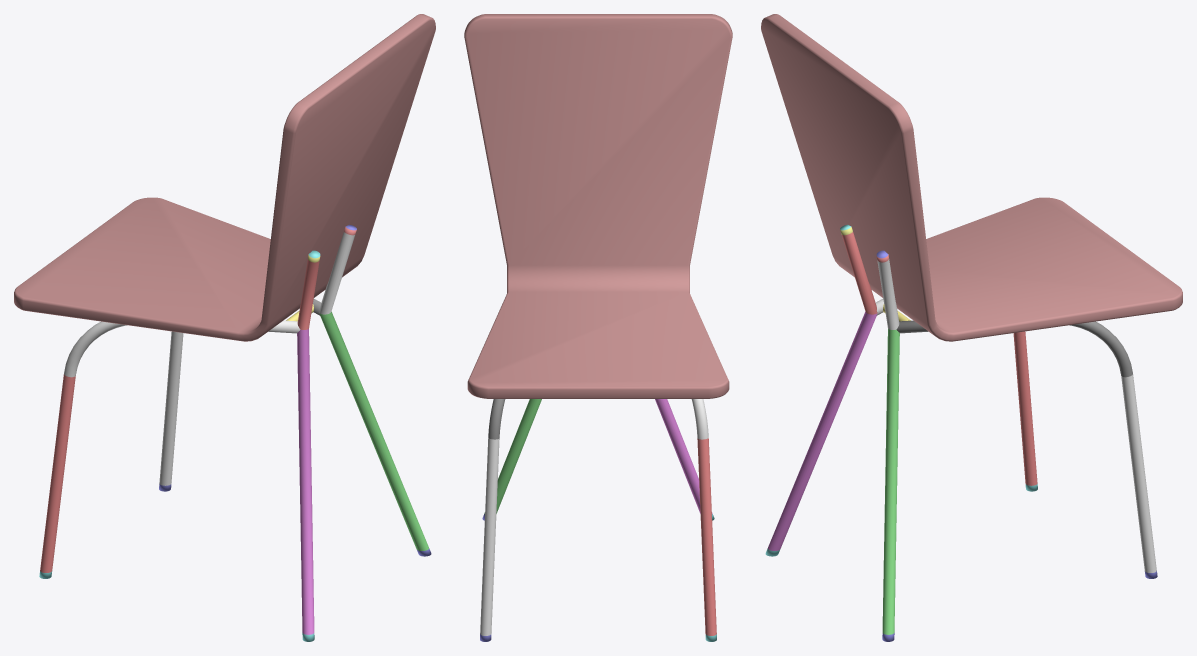
Rendered from chairRes.gltf.
The picture shows the model from 3 angles, left to right: view 1: azimuth 30°, elevation 25°; view 2: azimuth 150°, elevation 25°; view 3: azimuth 270°, elevation 25°; orthographic projection. The views are drawn at different scales.
Parts seen in each view (by area): view 1: chairRes; view 2: chairRes; view 3: chairRes.
Part boxes in pixels (<box>): chairRes: <box>14,14,435,641</box>; chairRes: <box>464,14,732,641</box>; chairRes: <box>761,14,1182,641</box>.
Size of the model in its own units: 0.9889 by 1.46 by 1.04.
